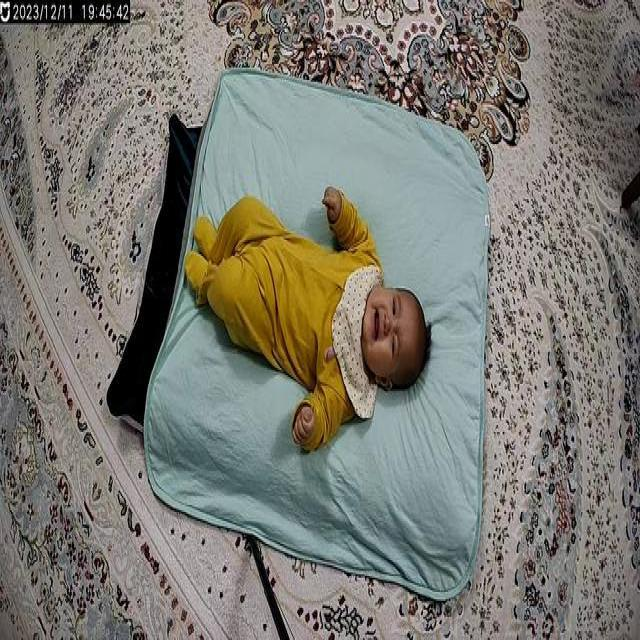baby: (174, 178, 436, 458)
